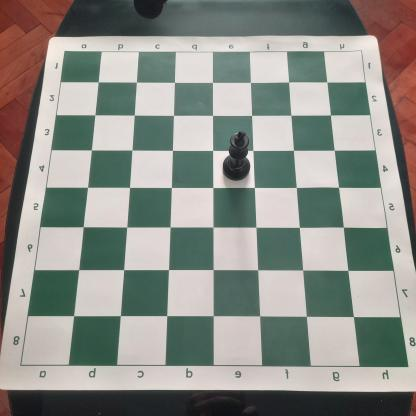black-king: (221, 130, 253, 182)
